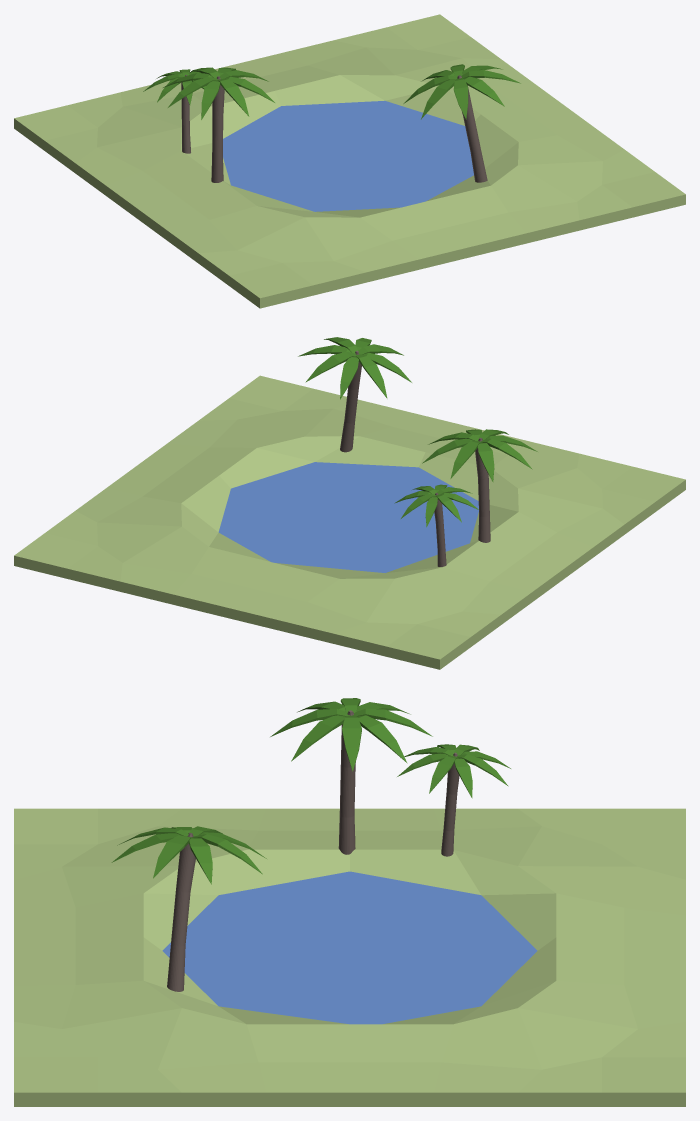
The model's file is Oasis I.fbx.
3 renders of one model, top to bottom at view 1: azimuth 30°, elevation 25°; view 2: azimuth 150°, elevation 25°; view 3: azimuth 270°, elevation 25°, orthographic. The views are drawn at different scales.
Visible parts, largest first — view 1: Oasis I; view 2: Oasis I; view 3: Oasis I.
Part boxes in pixels (x1,y1,x2,y2): Oasis I: (14, 14, 685, 308); Oasis I: (14, 337, 685, 669); Oasis I: (14, 698, 685, 1106).
Bounding box in the file's own units: 1600 × 443 × 1600.
